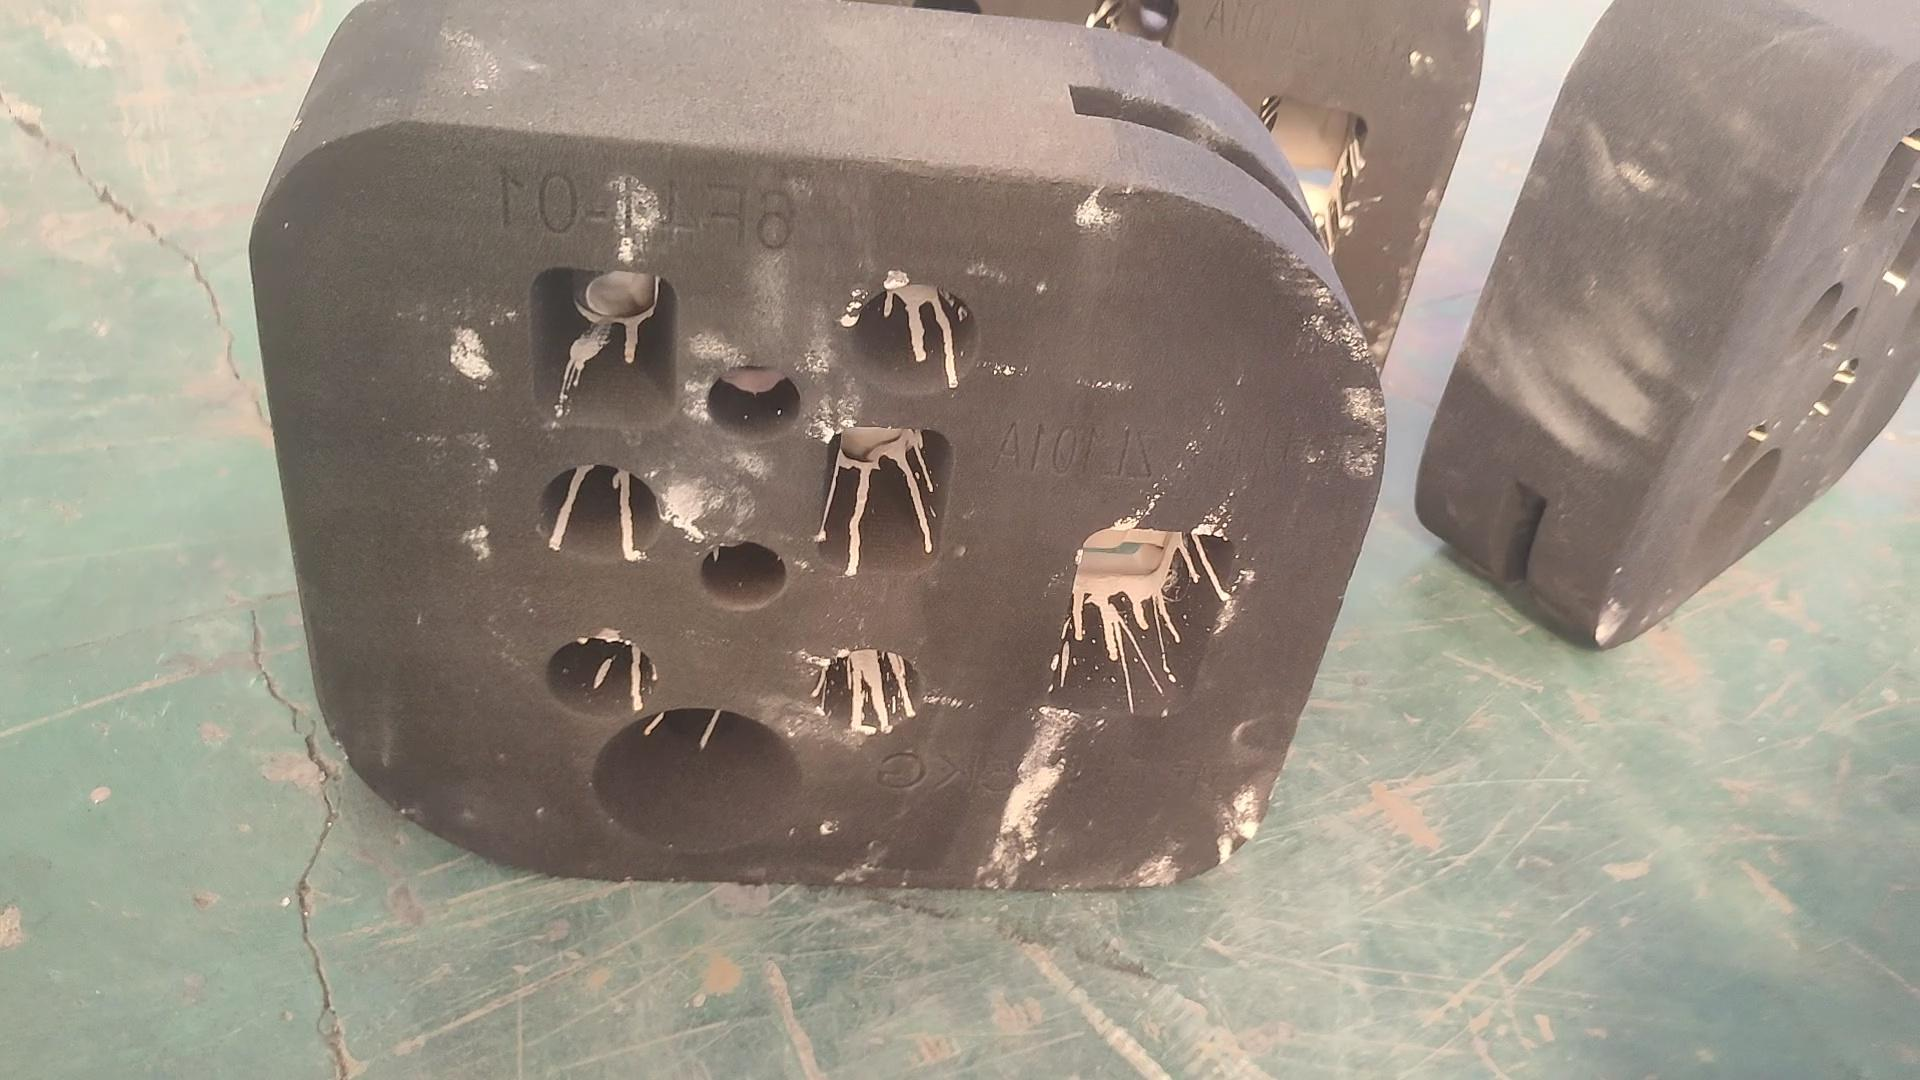pouring hole: (592, 707, 803, 855), (1687, 447, 1782, 564)
